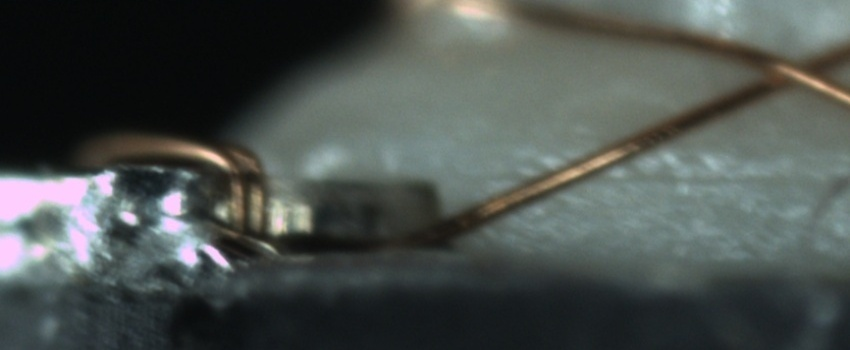CL: (746, 37, 846, 101)
DL: (494, 148, 849, 211)
TE: (65, 127, 275, 239)
